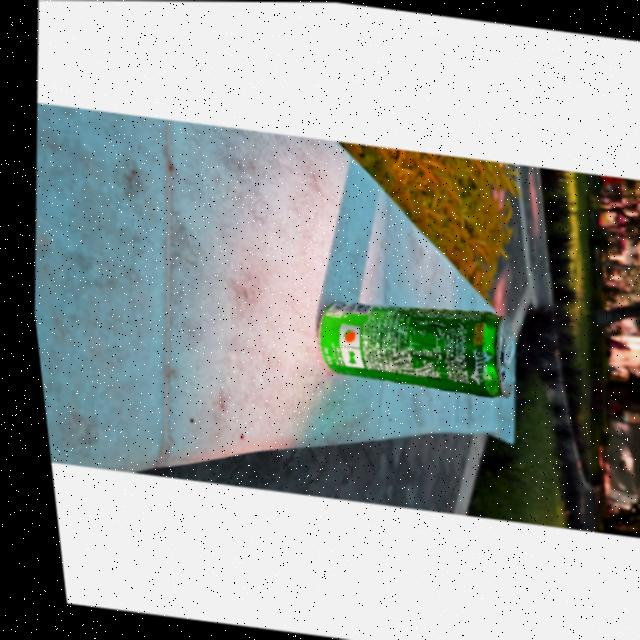Sprite: (305, 297, 510, 400)
